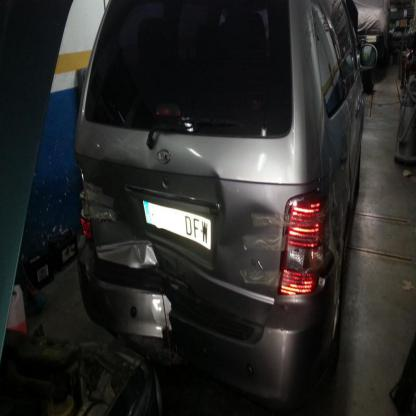headlamp: (276, 194, 322, 296), (78, 167, 93, 237)
rear_bumper: (78, 236, 337, 402)
